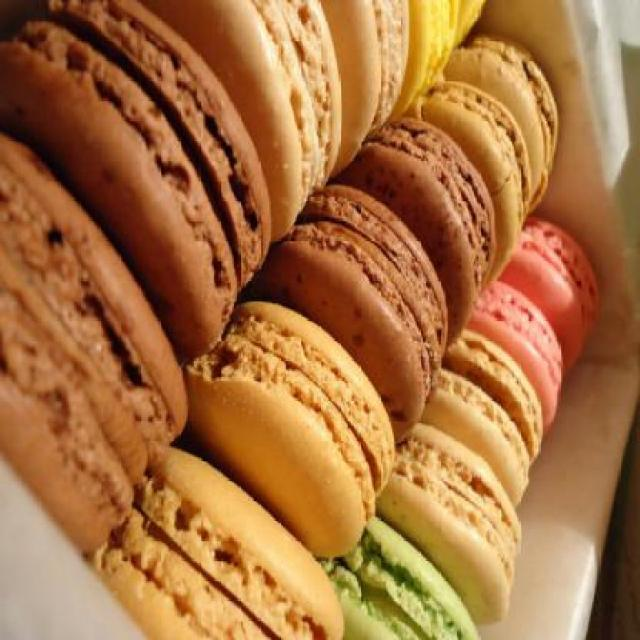Macaron: (1, 1, 610, 638)
